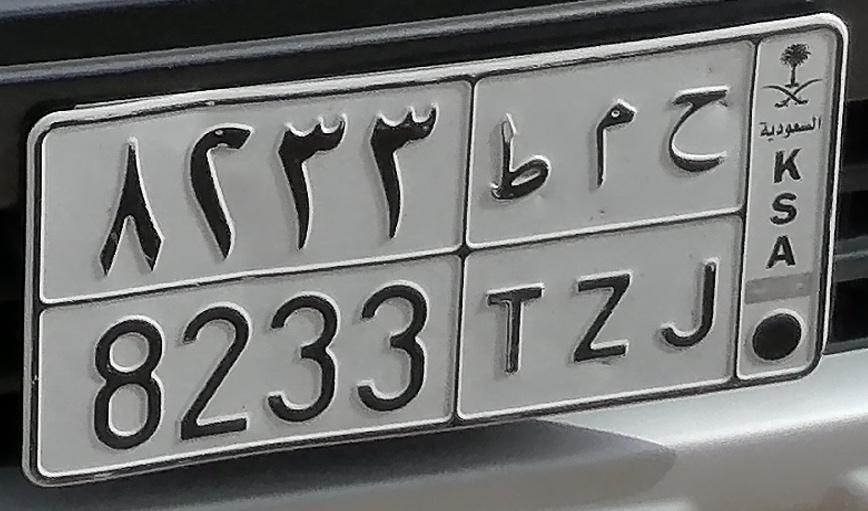2: (174, 116, 258, 447)
3: (259, 114, 354, 425), (353, 101, 443, 413)
8: (84, 133, 172, 455)
J: (652, 83, 735, 354)
T: (485, 113, 552, 380)
Z: (571, 100, 643, 362)
